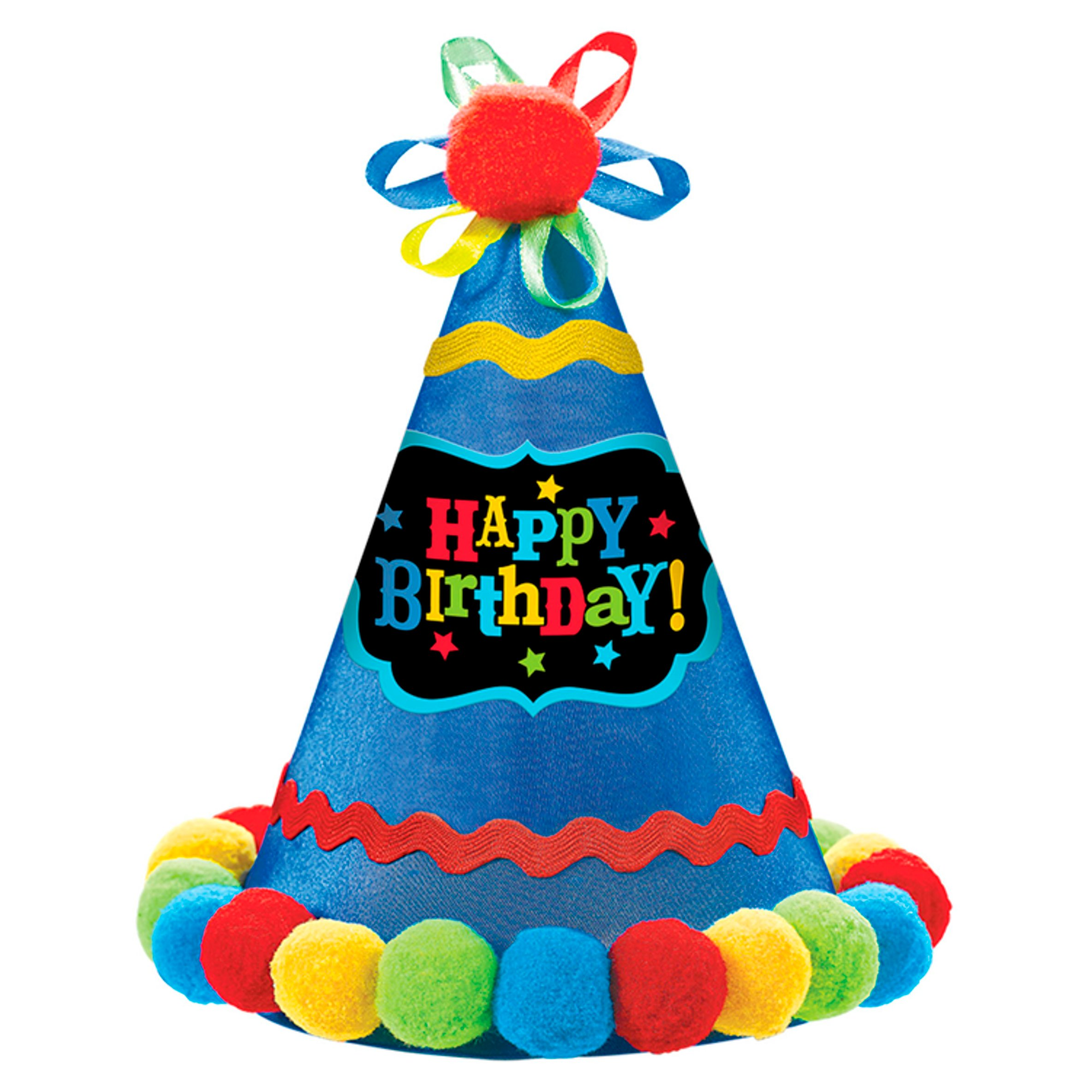cone: (243, 199, 836, 956)
sphere: (445, 85, 601, 222), (608, 918, 728, 1055), (374, 918, 499, 1049), (493, 927, 614, 1059), (701, 907, 812, 1042), (770, 889, 880, 1021), (201, 888, 316, 1014), (271, 919, 387, 1039), (835, 883, 932, 1008), (835, 849, 950, 949), (137, 857, 240, 964), (152, 884, 243, 1004), (147, 819, 256, 881)
